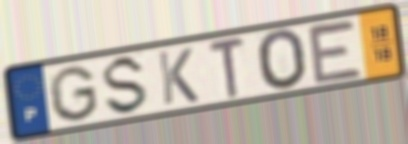E: (304, 18, 366, 87)
G: (46, 64, 102, 124)
K: (155, 46, 201, 107)
O: (254, 27, 310, 94)
S: (101, 53, 151, 117)
T: (206, 35, 249, 101)
